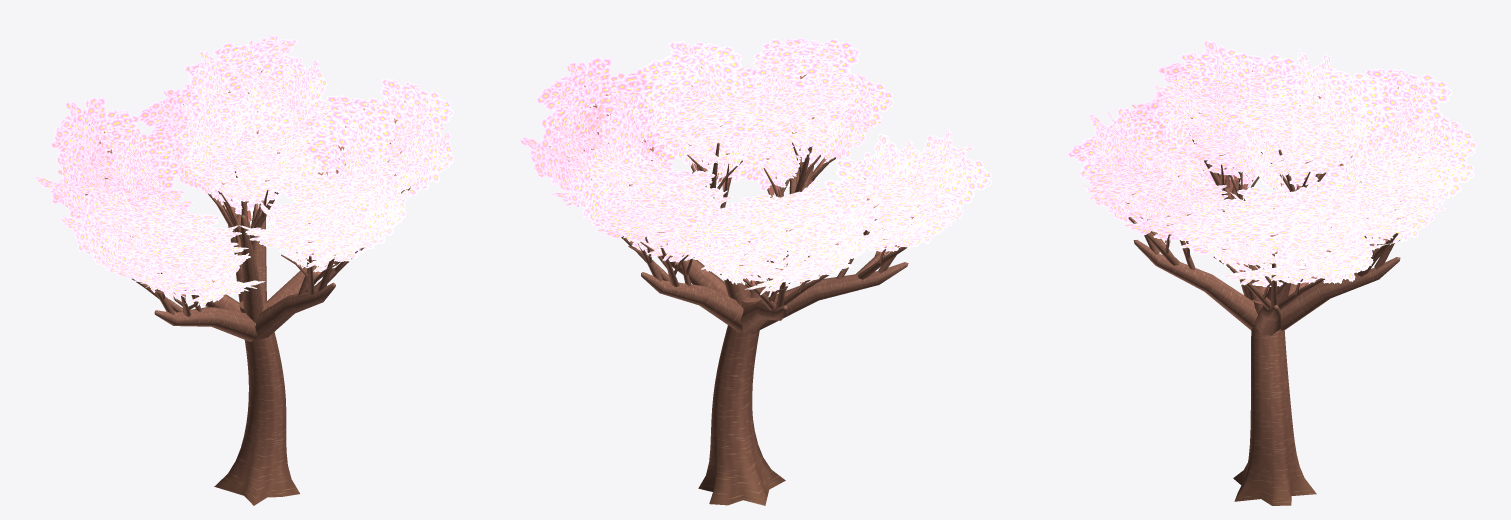
File: pink-tree.glb
3 renders of one model, left to right at view 1: azimuth 30°, elevation 25°; view 2: azimuth 150°, elevation 25°; view 3: azimuth 270°, elevation 25°, orthographic. The views are drawn at different scales.
Visible parts, largest first — view 1: canopy-foliage, SakuraBark; view 2: canopy-foliage, SakuraBark; view 3: canopy-foliage, SakuraBark.
Part boxes in pixels (<box>): canopy-foliage: <box>35,34,453,308</box>; SakuraBark: <box>132,137,410,505</box>; canopy-foliage: <box>520,37,992,297</box>; SakuraBark: <box>621,142,911,505</box>; canopy-foliage: <box>1067,40,1476,293</box>; SakuraBark: <box>1128,133,1400,505</box>.
Bounding box in the file's own units: 5.4 × 5.55 × 5.
Materials: 2 (2 with a texture image).
